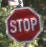stopsign: (5, 7, 42, 43)
